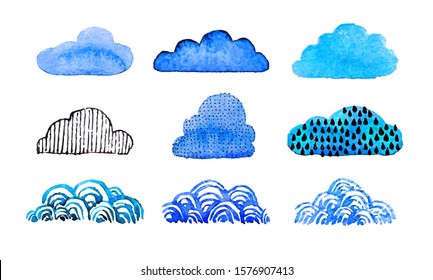cloud: (289, 20, 400, 81), (285, 105, 406, 159), (170, 91, 255, 160), (150, 28, 271, 74), (24, 179, 147, 224), (31, 26, 134, 77), (293, 177, 397, 227), (163, 178, 271, 225), (36, 106, 135, 156)
